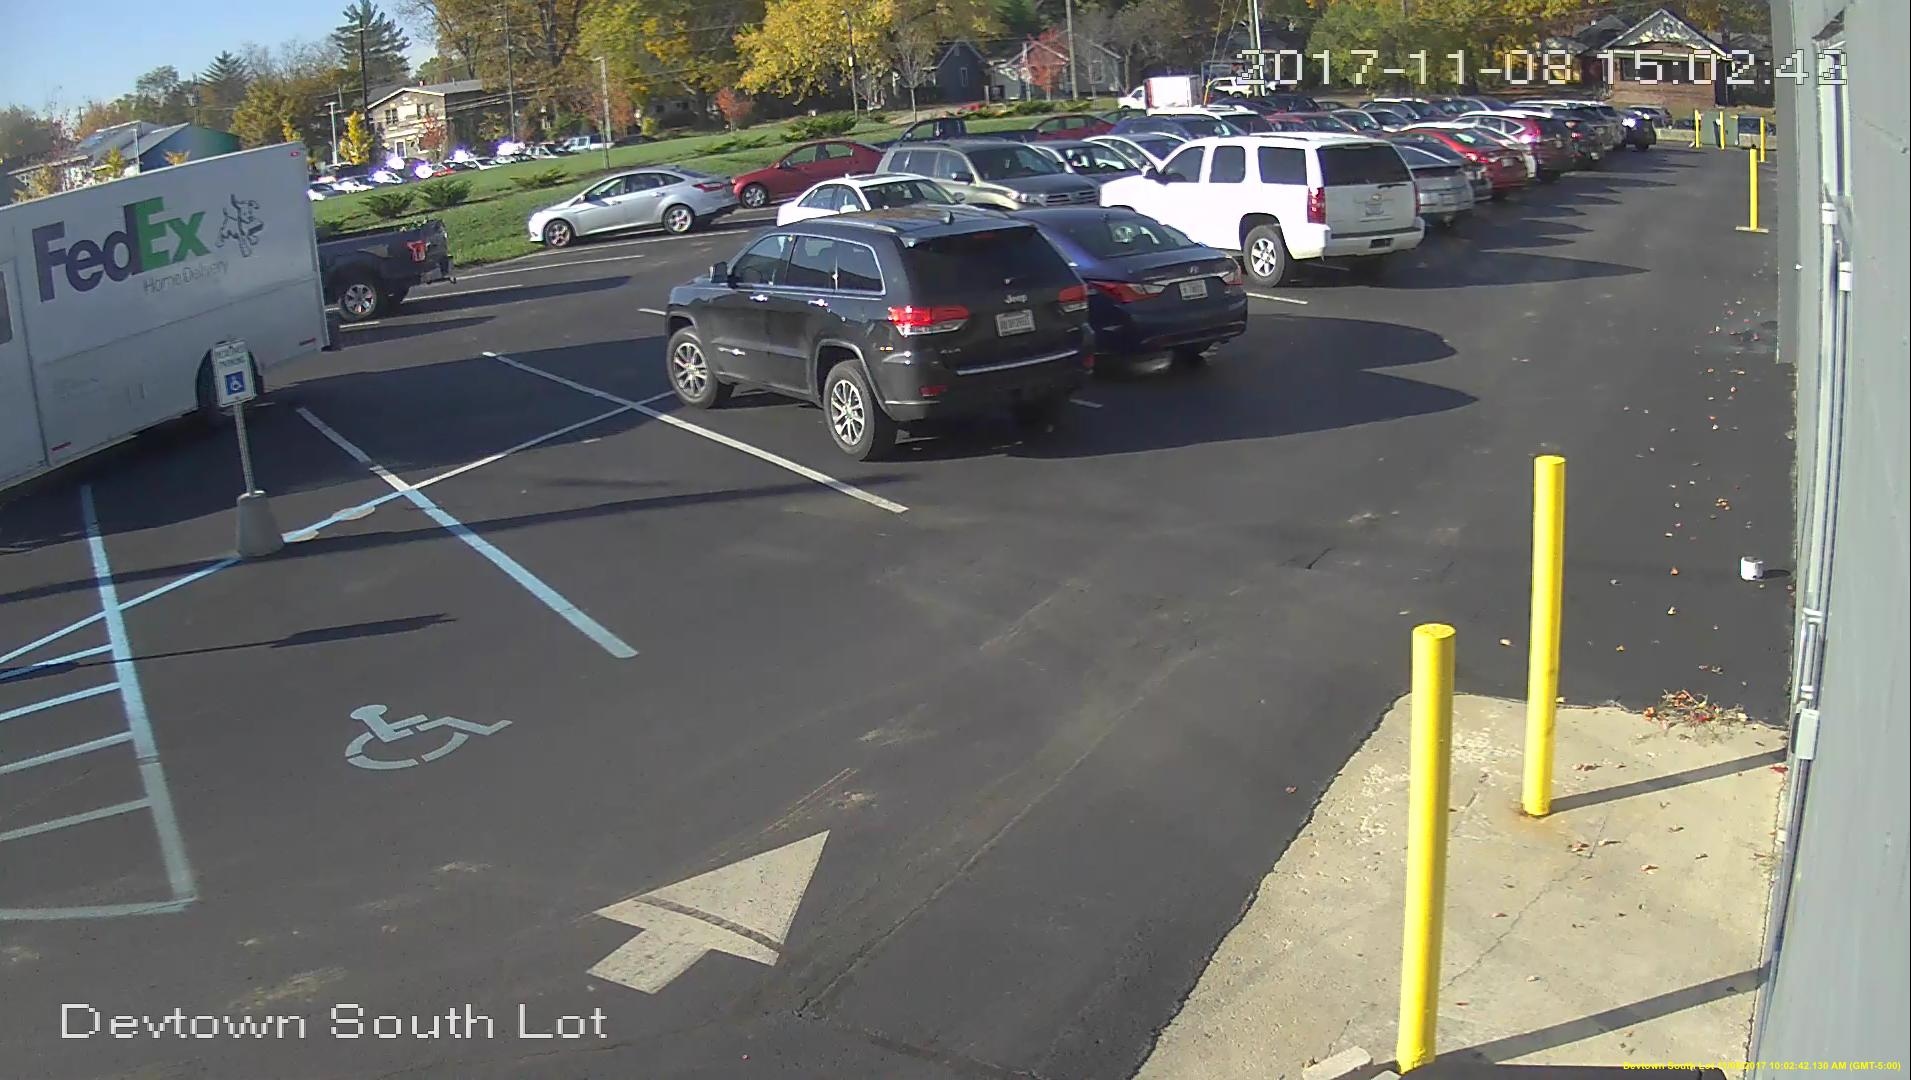fedex_truck: (1, 138, 345, 493)
